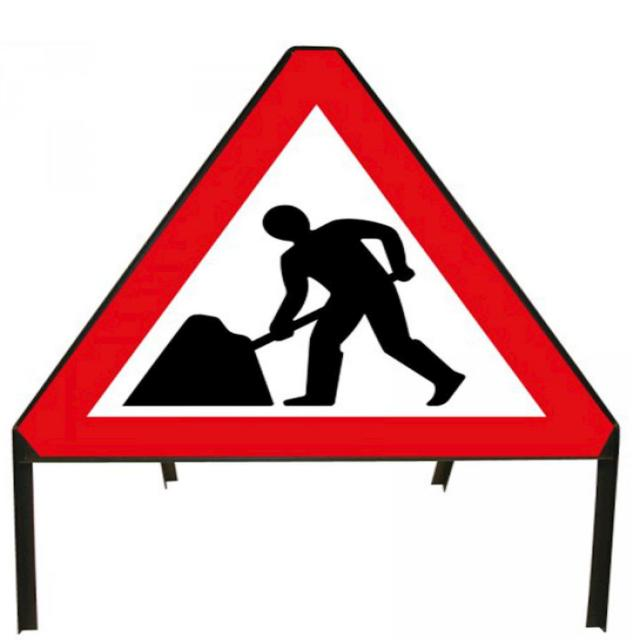WORKERS: (14, 47, 618, 461)
